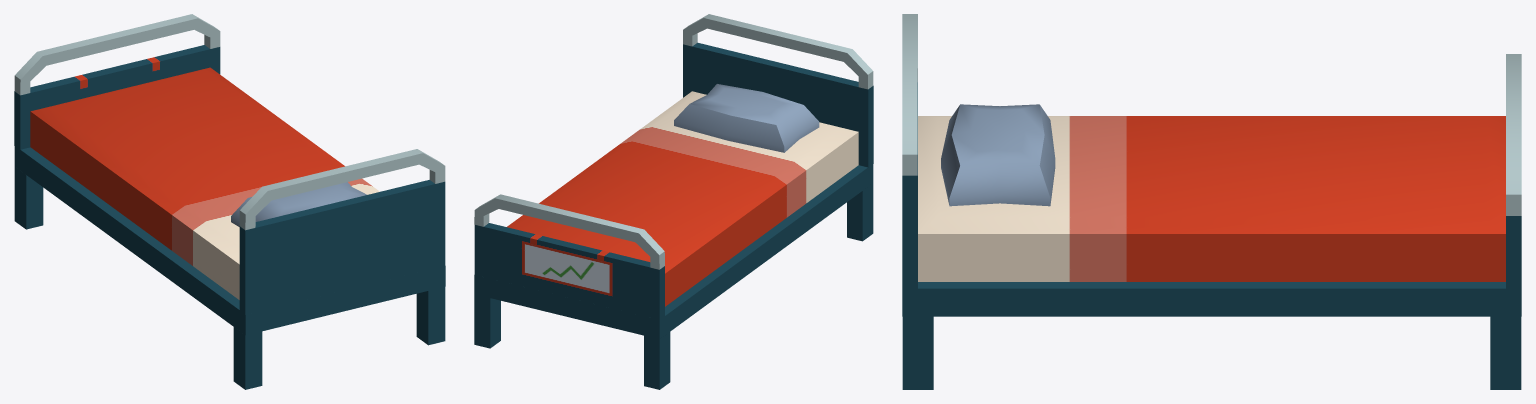
File: Lit.FBX
3 views of the same model, side by side, from view 1: azimuth 30°, elevation 25°; view 2: azimuth 150°, elevation 25°; view 3: azimuth 270°, elevation 25° (orthographic). The views are drawn at different scales.
Parts seen in each view (by area): view 1: Lit; view 2: Lit; view 3: Lit.
Boxes of the visible parts, bbox=[...] form: Lit: bbox=[14, 14, 445, 389]; Lit: bbox=[474, 14, 873, 389]; Lit: bbox=[902, 14, 1521, 389].
Bounding box in the file's own units: 1 × 0.9255 × 2.
